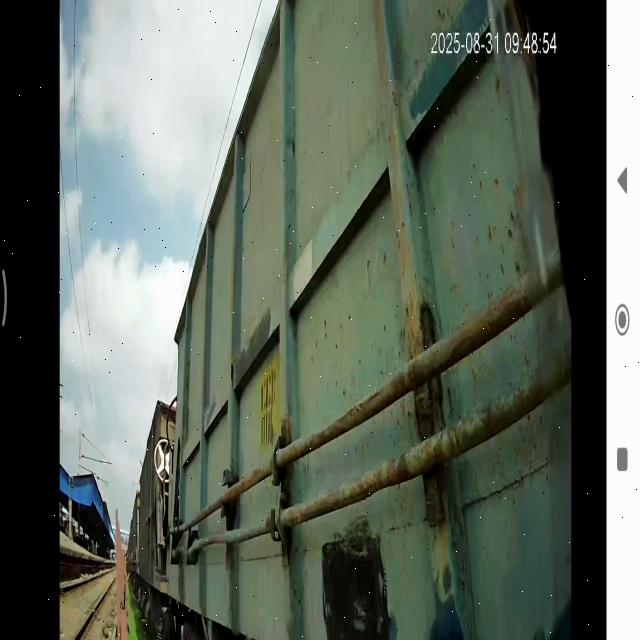coach: (187, 4, 567, 640)
